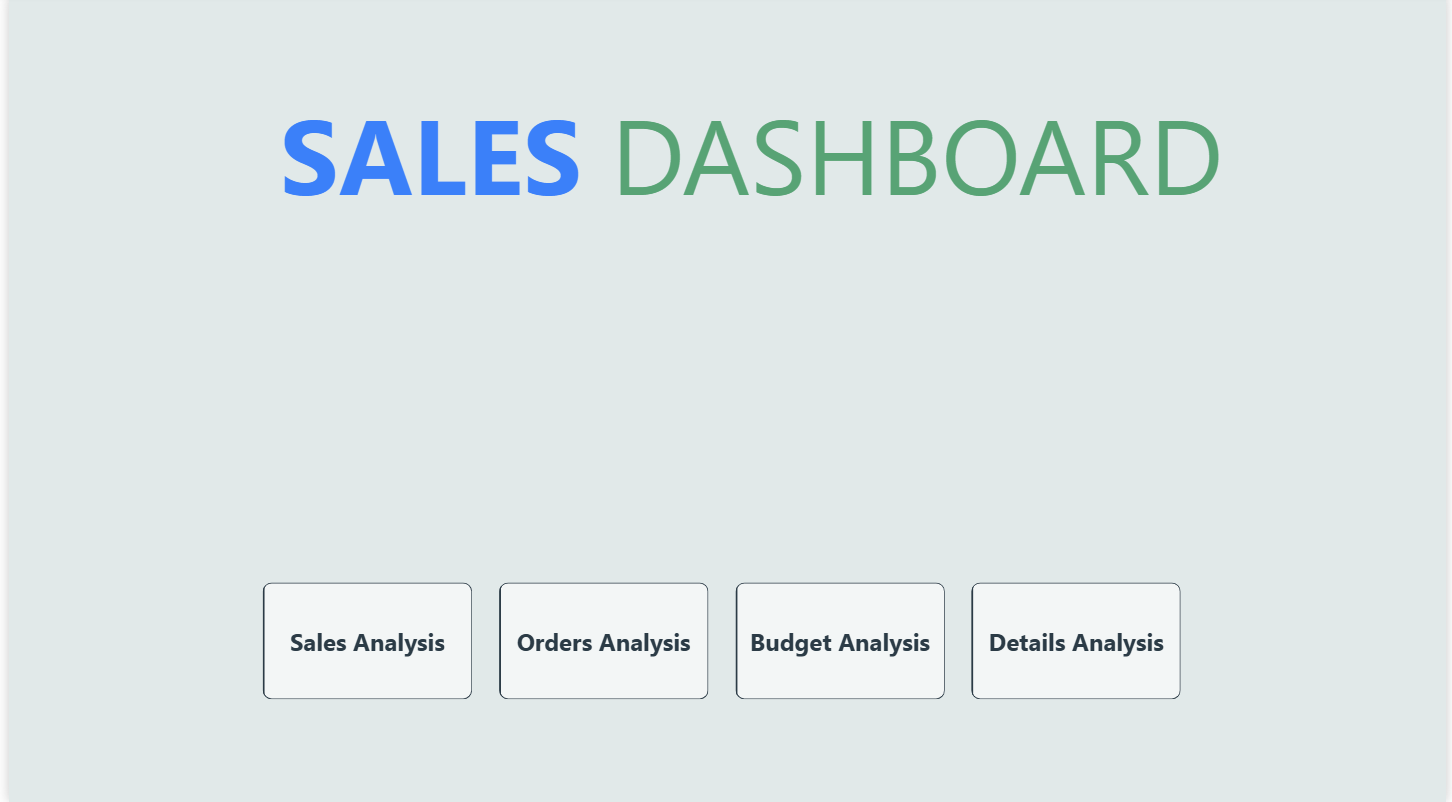

The page's visual inventory and layout, read from the dashboard file:
{"tool":"powerbi","page":{"name":"Home","canvas":[1600,900],"ordinal":1},"visuals":[{"type":"textbox","box":[241,58.1,1138.3,177.1],"z":0},{"type":"pageNavigator","box":[255.9,653.9,1279.3,130.2],"z":1000}]}

Visuals, with their boxes in screenshot pixels (x1, y1, x2, y2), scaled from the page's 1600x900 canvas onto the 1452x802 screenshot:
textbox: l=219, t=52, r=1252, b=210
pageNavigator: l=232, t=583, r=1393, b=699
